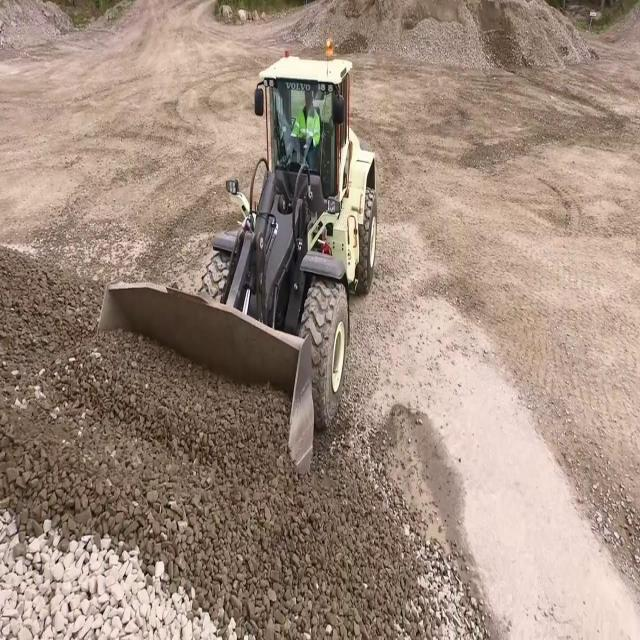Loader: (98, 53, 377, 472)
